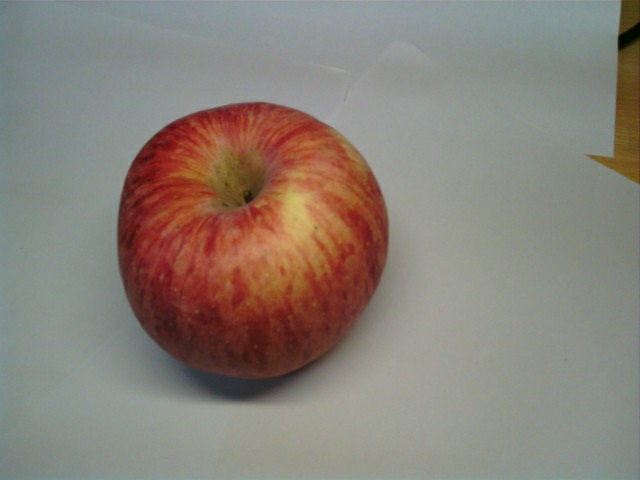normal_apple: (115, 102, 391, 385)
